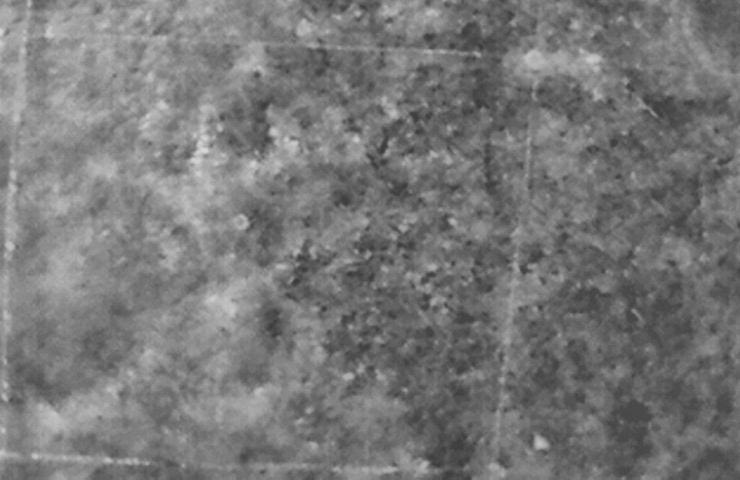landmines: (230, 212, 255, 236)
